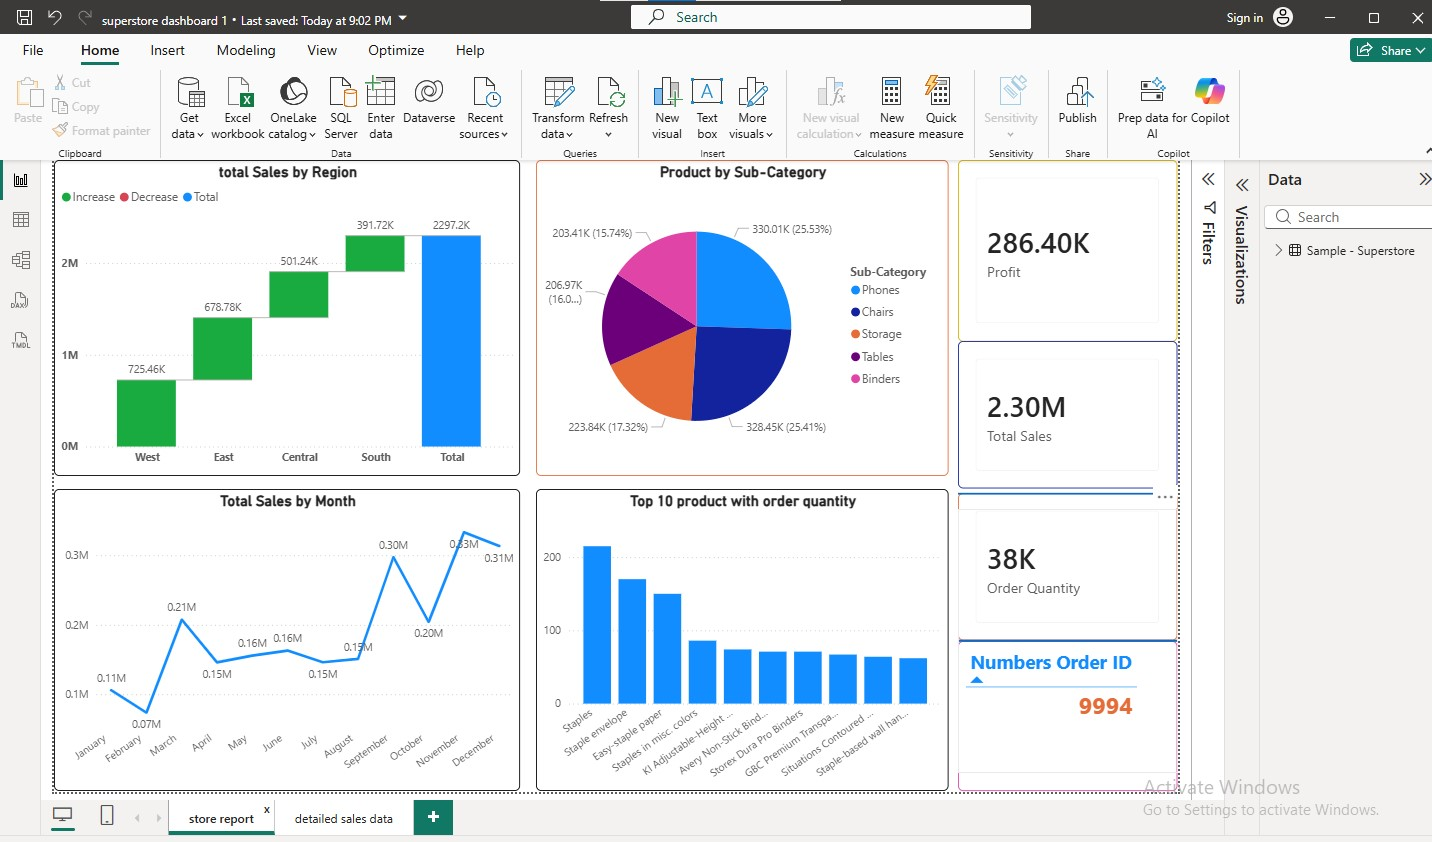

This screenshot's page, from the dashboard's own definition file:
{"tool":"powerbi","page":{"name":"store report","canvas":[1280,720],"ordinal":0},"visuals":[{"type":"waterfallChart","title":"  total Sales by Region","fields":{"Y":["Sum(Sample - Superstore.Sales)"],"Category":["Sample - Superstore.Region"]},"box":[0,0,531.3,359.8],"z":0},{"type":"lineChart","fields":{"Category":["Sample - Superstore.Order Date.Variation.Date Hierarchy.Month"],"Y":["Sum(Sample - Superstore.Sales)"]},"box":[0,375.1,531.3,344.5],"z":1},{"type":"pieChart","title":"Product by Sub-Category","fields":{"Category":["Sample - Superstore.Sub-Category"],"Y":["Sum(Sample - Superstore.Sales)"]},"box":[549.7,0,470,359.8],"z":2},{"type":"clusteredColumnChart","title":"Top 10 product with order quantity","fields":{"Category":["Sample - Superstore.Product Name"],"Y":["Sum(Sample - Superstore.Quantity)"]},"box":[549.7,375.1,470,344.5],"z":3},{"type":"cardVisual","fields":{"Data":["Sum(Sample - Superstore.Profit)"]},"box":[1030.4,0,249.6,206.7],"z":4},{"type":"cardVisual","fields":{"Data":["Sum(Sample - Superstore.Sales)"]},"box":[1030.4,206.7,249.6,168.4],"z":5},{"type":"cardVisual","fields":{"Data":["Sum(Sample - Superstore.Quantity)"]},"box":[1030.4,379.7,249.6,168.4],"z":6},{"type":"tableEx","fields":{"Values":["Sample - Superstore.Order ID"]},"box":[1030.4,548.1,249.6,171.5],"z":7},{"type":"shape","box":[1030.4,398.1,249.6,300.1],"z":8},{"type":"shape","box":[1030.4,229.7,249.6,300.1],"z":9},{"type":"shape","box":[1030.4,398.1,249.6,300.1],"z":10}]}

Visuals, with their boxes on the page's 1280x720 design canvas (x1, y1, x2, y2). These are canvas units, not pixel positions in the 1432x842 screenshot, which may show the page scaled, cropped or inside an application window:
"  total Sales by Region" waterfallChart: (left=0, top=0, right=531, bottom=360)
lineChart - Sample - Superstore.Order Date.Variation.Date Hierarchy.Month x Sum(Sample - Superstore.Sales): (left=0, top=375, right=531, bottom=720)
"Product by Sub-Category" pieChart: (left=550, top=0, right=1020, bottom=360)
"Top 10 product with order quantity" clusteredColumnChart: (left=550, top=375, right=1020, bottom=720)
cardVisual - Sum(Sample - Superstore.Profit): (left=1030, top=0, right=1280, bottom=207)
cardVisual - Sum(Sample - Superstore.Sales): (left=1030, top=207, right=1280, bottom=375)
cardVisual - Sum(Sample - Superstore.Quantity): (left=1030, top=380, right=1280, bottom=548)
tableEx - Sample - Superstore.Order ID: (left=1030, top=548, right=1280, bottom=720)
shape: (left=1030, top=398, right=1280, bottom=698)
shape: (left=1030, top=230, right=1280, bottom=530)
shape: (left=1030, top=398, right=1280, bottom=698)
